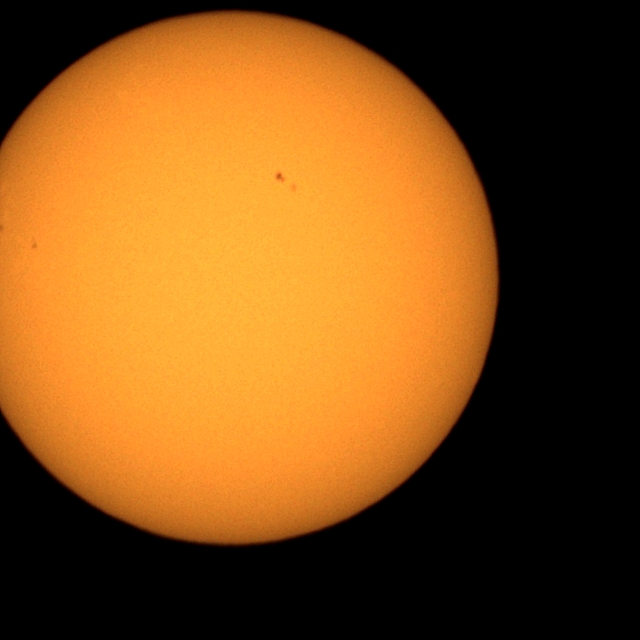sunspot: (274, 170, 298, 194), (274, 172, 286, 184), (30, 241, 39, 251)
